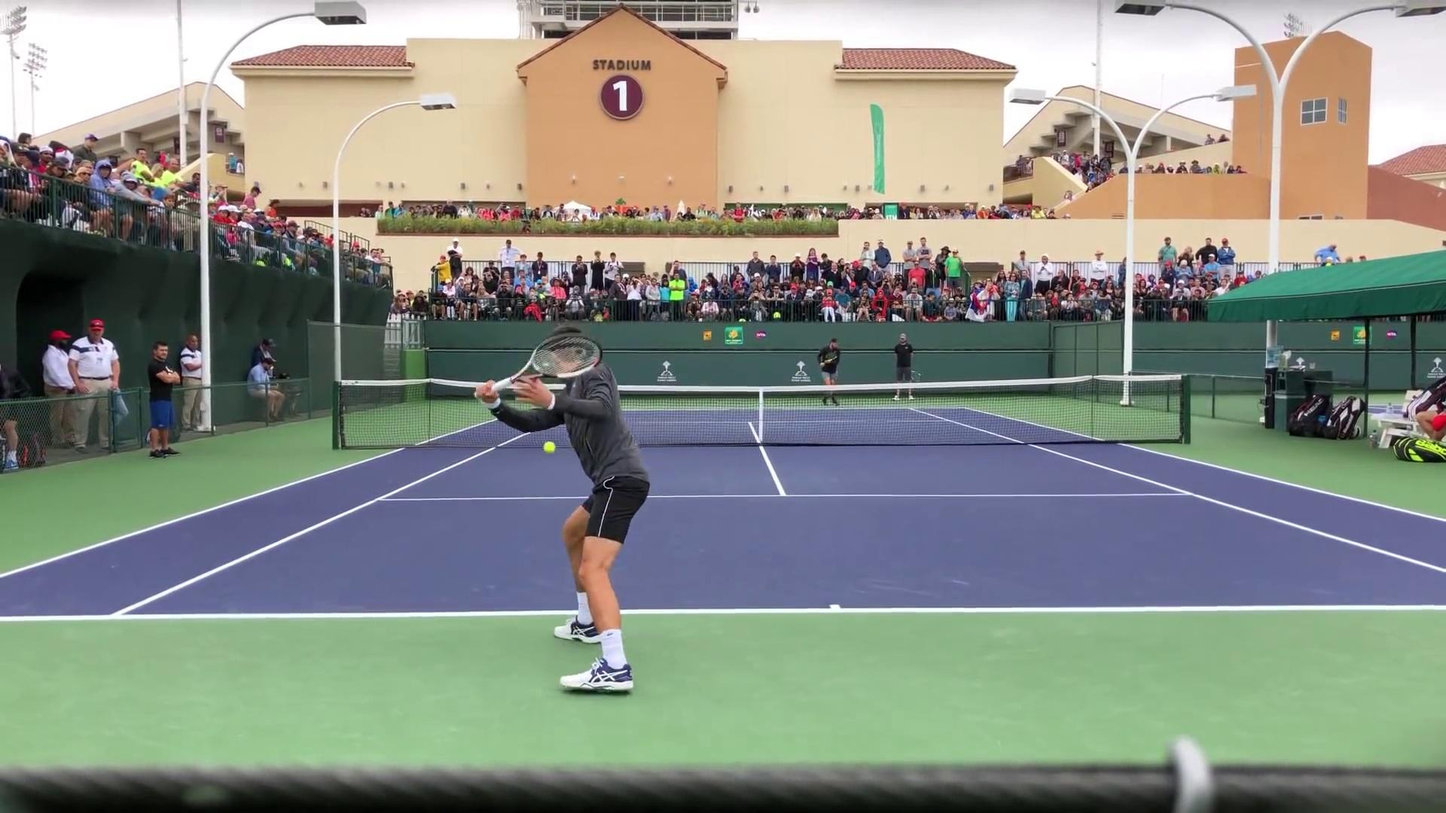ball: (542, 440, 557, 452)
